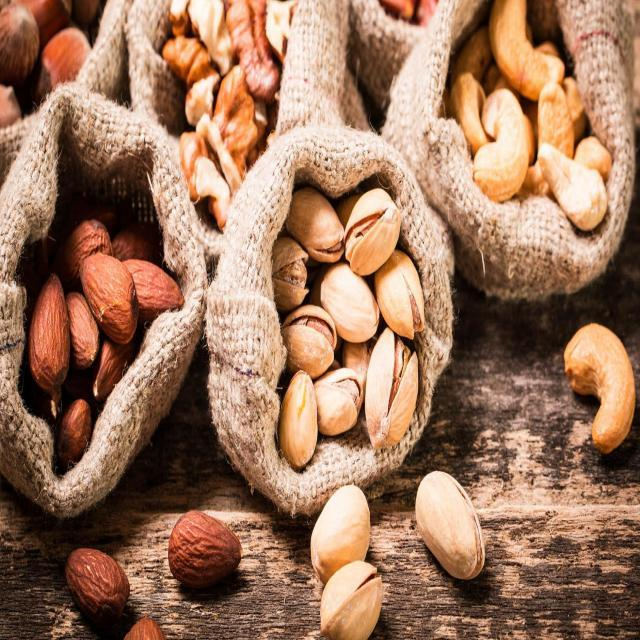Frutta secca: (269, 187, 420, 471), (25, 215, 188, 457), (446, 20, 610, 237), (304, 484, 383, 640), (564, 320, 638, 448), (413, 467, 483, 587), (167, 510, 245, 592)
